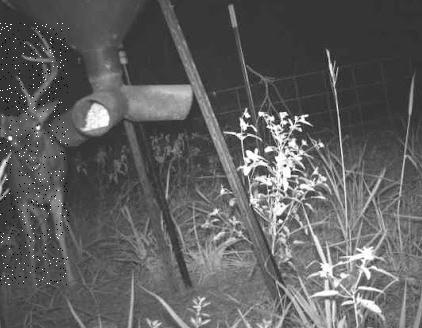Deer: (0, 23, 69, 285)
